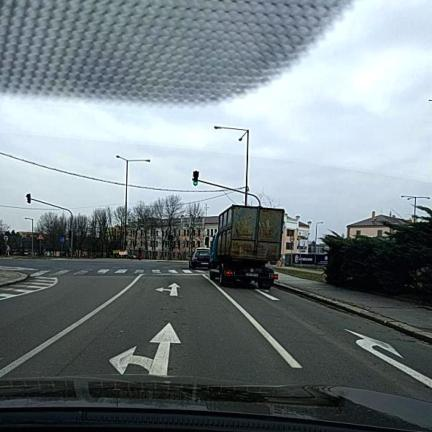Road: (0, 260, 431, 400)
